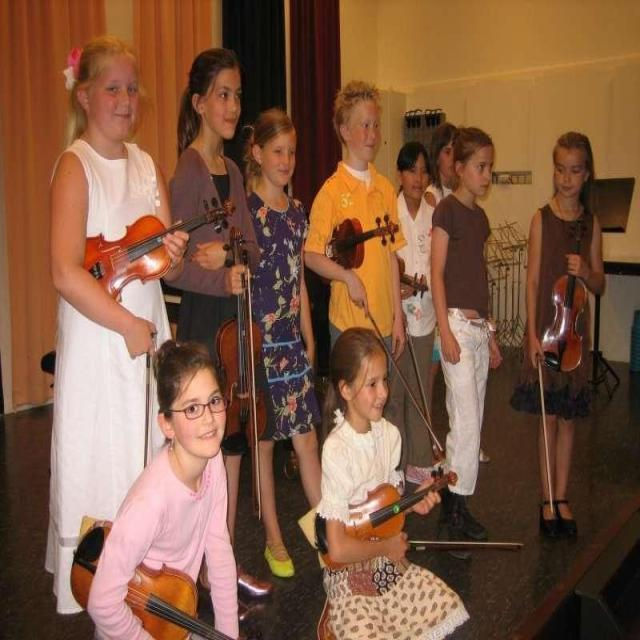violin: (70, 515, 240, 640), (83, 198, 235, 300), (314, 466, 459, 572), (214, 227, 270, 448), (540, 218, 590, 373), (325, 215, 399, 273)
